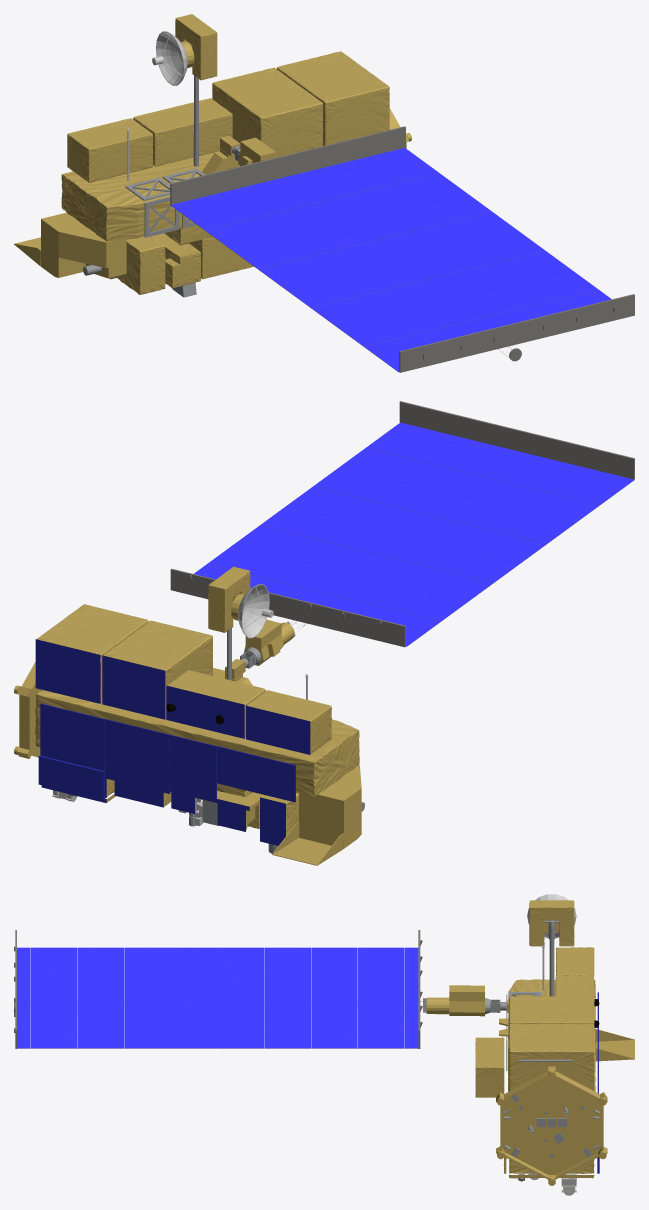
The model's file is terra.glb.
3 renders of one model, top to bottom at view 1: azimuth 30°, elevation 25°; view 2: azimuth 150°, elevation 25°; view 3: azimuth 270°, elevation 25°, orthographic. The views are drawn at different scales.
Visible parts, largest first — view 1: Terra_vFINAL [Layer1], Terra_vFINAL [Layer17]; view 2: Terra_vFINAL [Layer1], Terra_vFINAL [Layer17]; view 3: Terra_vFINAL [Layer17], Terra_vFINAL [Layer1].
Boxes of the visible parts, x1,y1,x2,y2 form: Terra_vFINAL [Layer1]: [14, 14, 634, 372]; Terra_vFINAL [Layer17]: [171, 148, 611, 371]; Terra_vFINAL [Layer1]: [14, 401, 634, 865]; Terra_vFINAL [Layer17]: [194, 422, 634, 646]; Terra_vFINAL [Layer17]: [17, 947, 418, 1048]; Terra_vFINAL [Layer1]: [14, 894, 634, 1195].
Size of the model in its own units: 13622 by 10276 by 26054.
2 materials, 2 textured.
